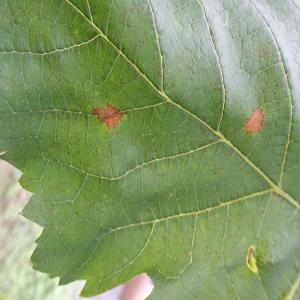Folha: (0, 0, 300, 299)
Fungo: (91, 100, 127, 130), (243, 106, 265, 136)
